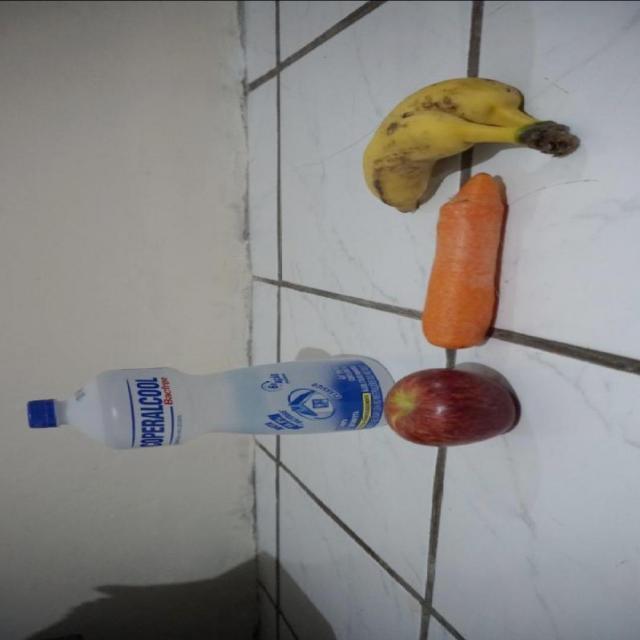AlcoholBottle: (27, 347, 384, 450)
Apple: (387, 363, 522, 452)
Banana: (345, 66, 591, 174)
Carrot: (417, 175, 537, 352)
